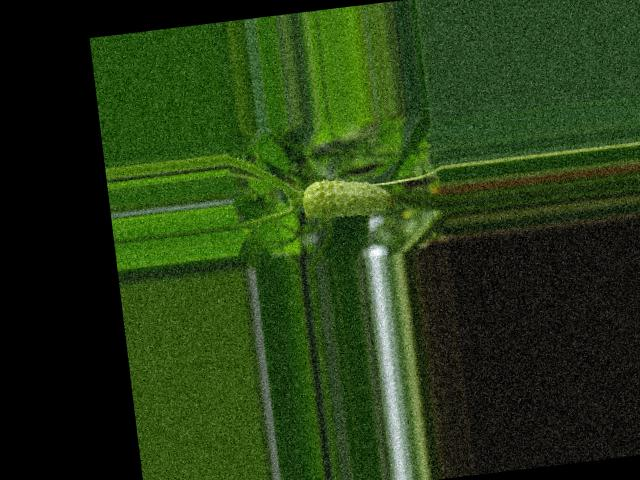cucumber: (300, 171, 397, 221)
